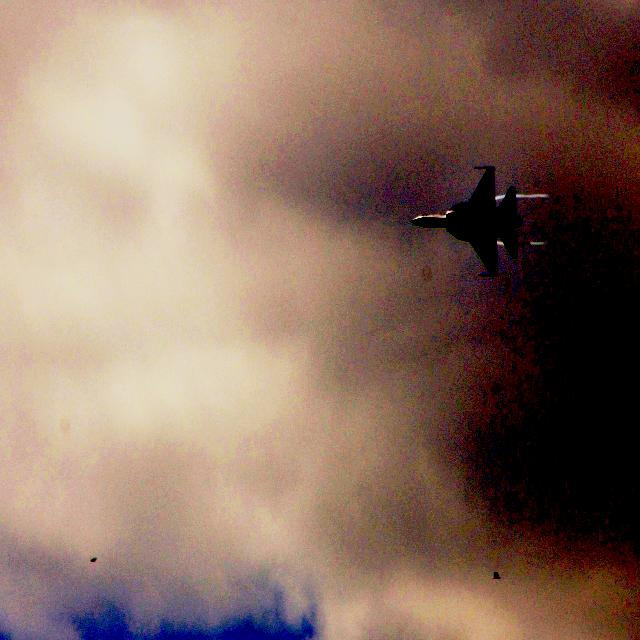Aircraft: (411, 164, 525, 277)
